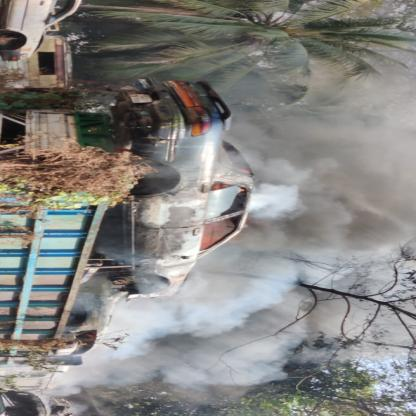Smoke: (89, 34, 416, 392)
